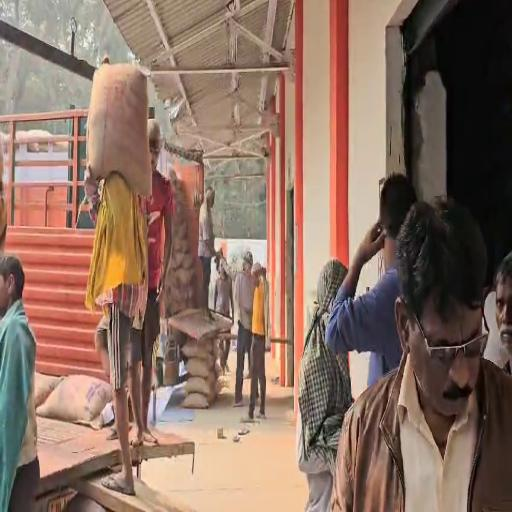bag: (86, 58, 157, 204)
